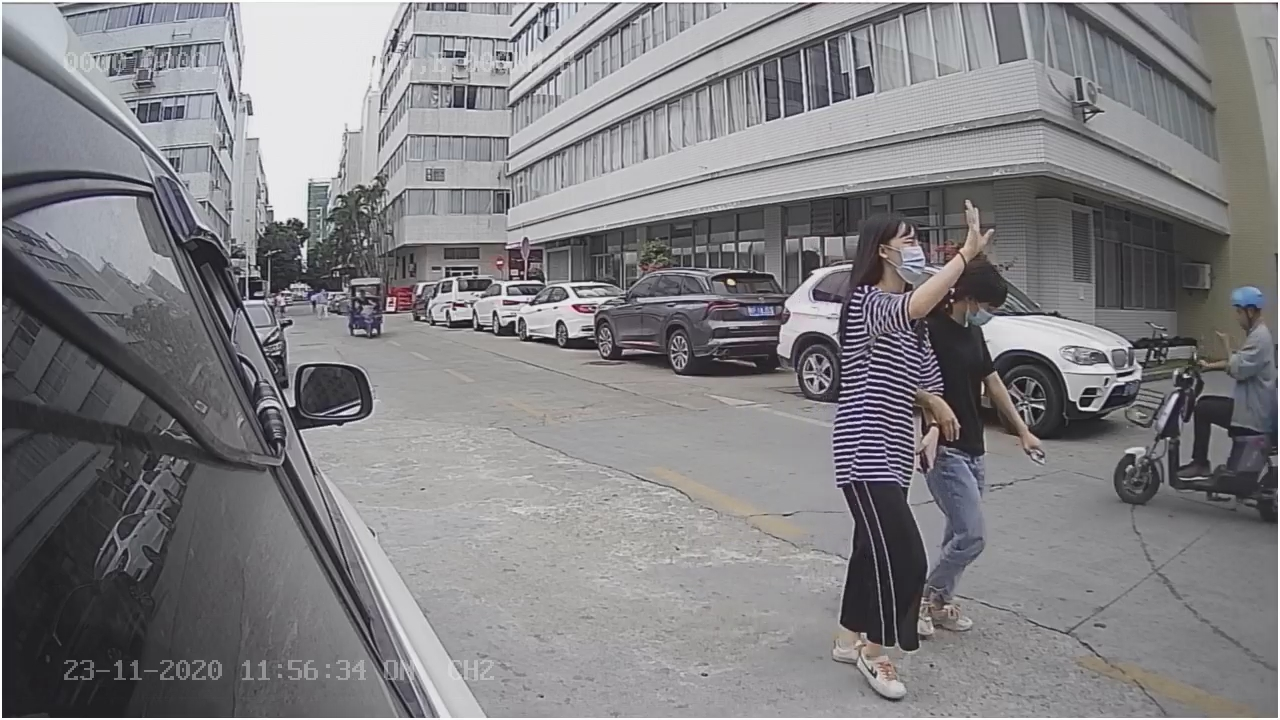person: (829, 209, 934, 705)
